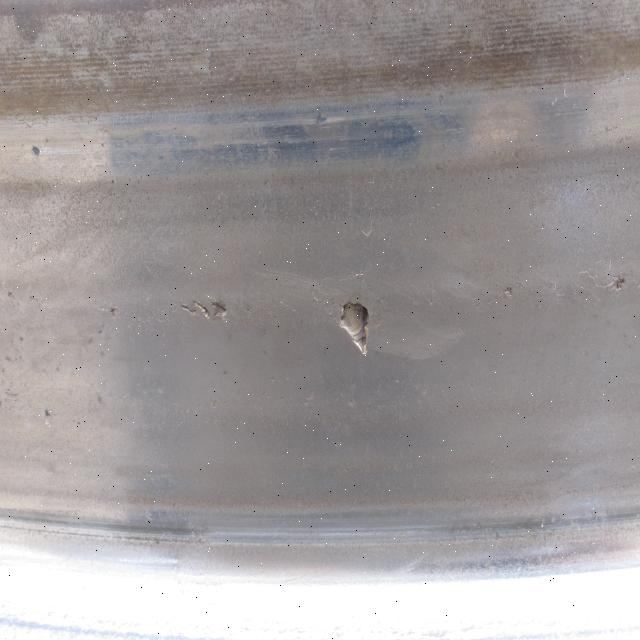boli: (310, 272, 390, 374)
